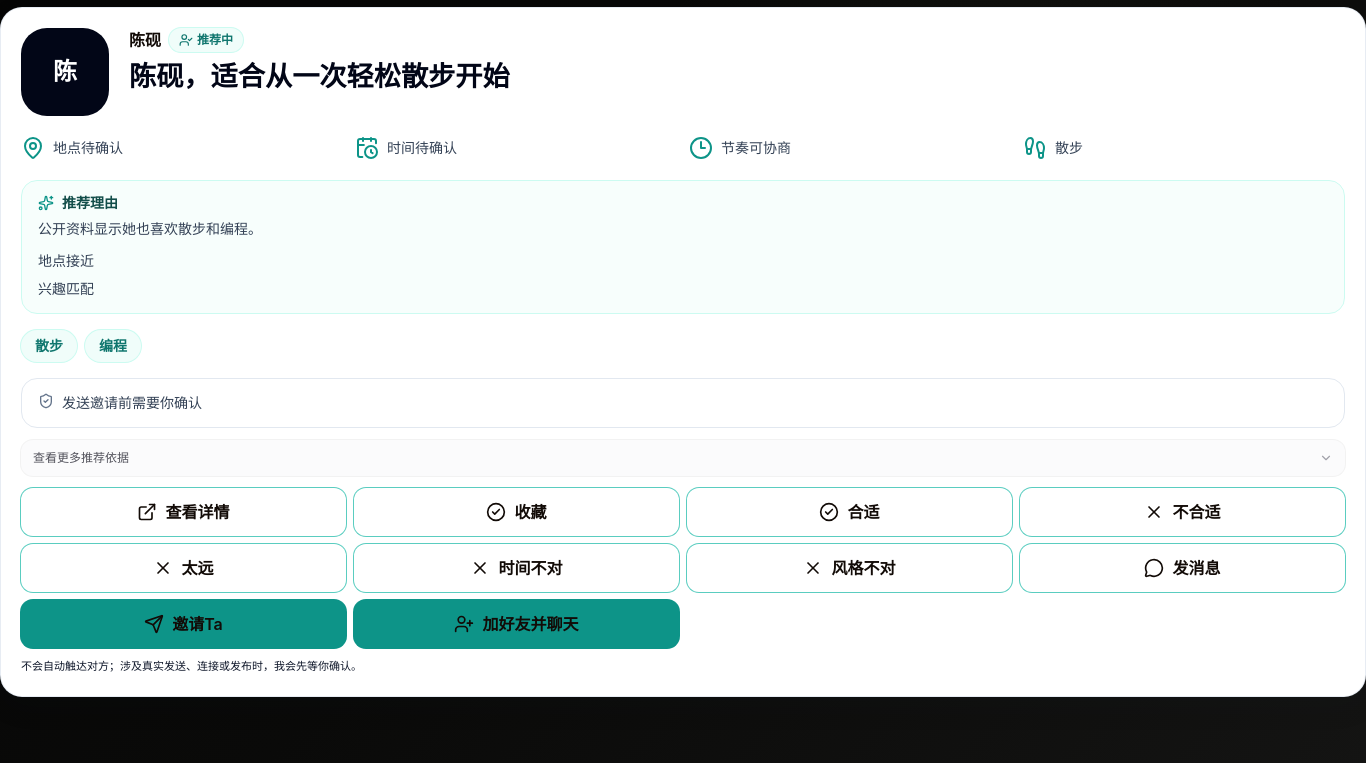
Test: assistant-ui tool fallback rendering › keeps replayed candidate actions and approvals on one unified candidate card
The image size is (1366, 763).
Click the button "加好友并聊天": {"x": 516, "y": 624} [354, 600, 679, 648]
(page scrolled)
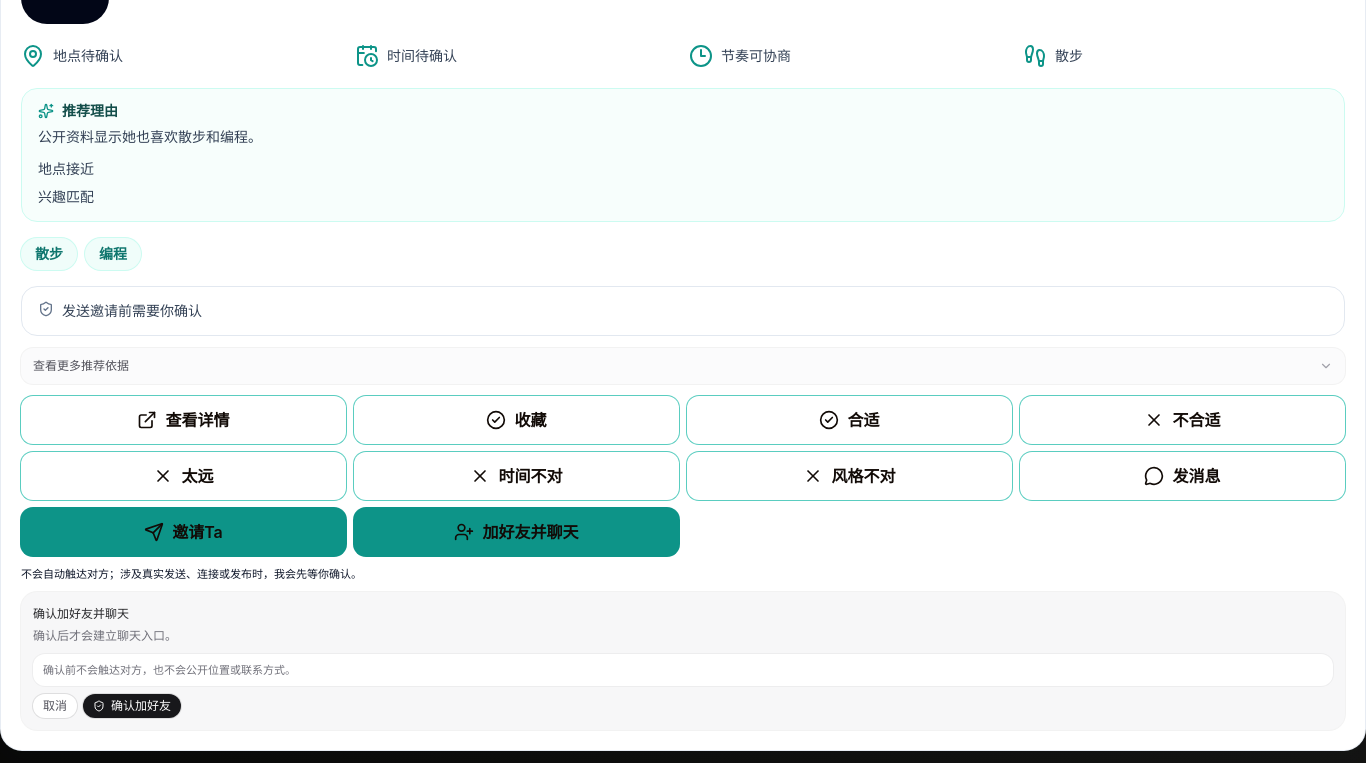
Result: the element with test id "assistant-ui-inline-approval-panel" shows "确认加好友并聊天" at [33, 606, 129, 621]
